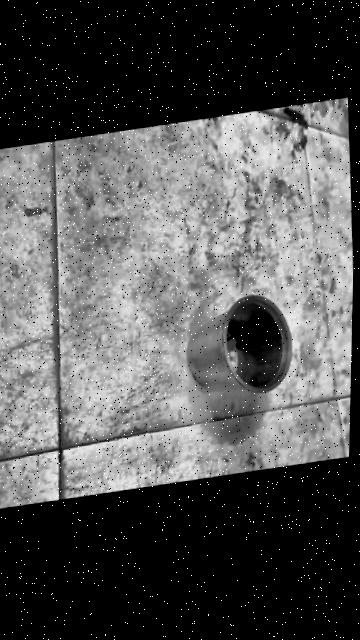pot: (183, 289, 294, 403)
